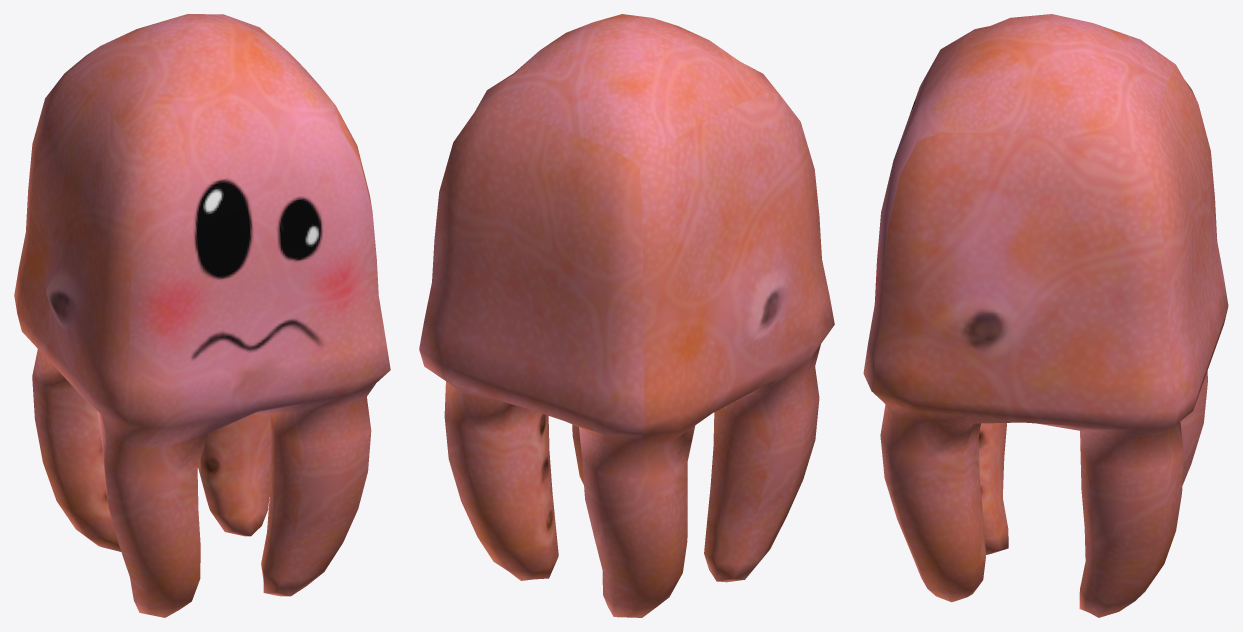
Rendered from pulpo.FBX.
The picture shows the model from 3 angles, left to right: view 1: azimuth 30°, elevation 25°; view 2: azimuth 150°, elevation 25°; view 3: azimuth 270°, elevation 25°; orthographic projection. The views are drawn at different scales.
Visible parts, largest first — view 1: pulpo; view 2: pulpo; view 3: pulpo.
Boxes of the visible parts, left/top/right/bottom form: pulpo: left=14, top=14, right=390, bottom=617; pulpo: left=419, top=14, right=834, bottom=617; pulpo: left=863, top=14, right=1228, bottom=617.
Size of the model in its own units: 248 by 445 by 260.
